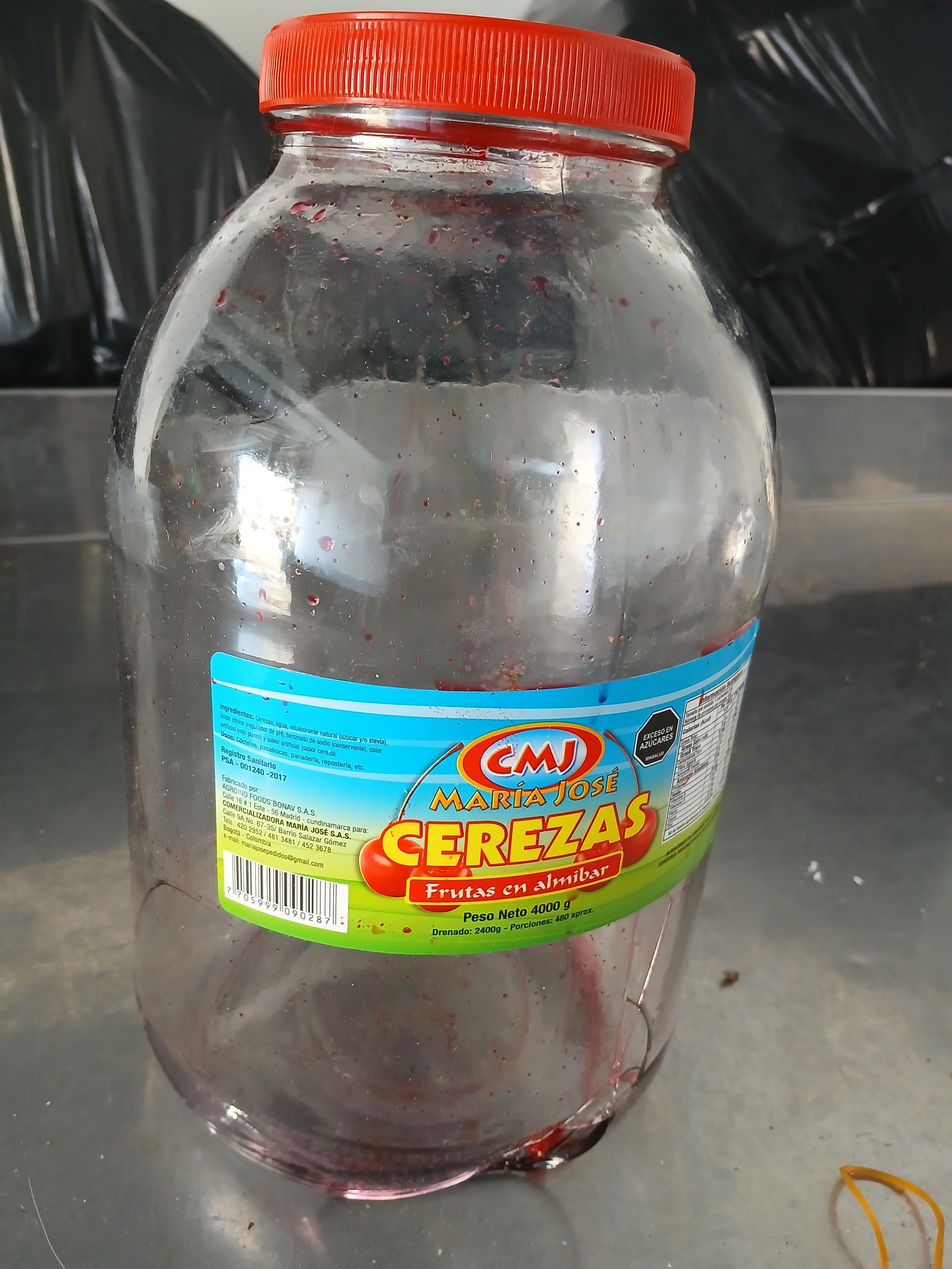Plastico: (106, 7, 781, 1200)
